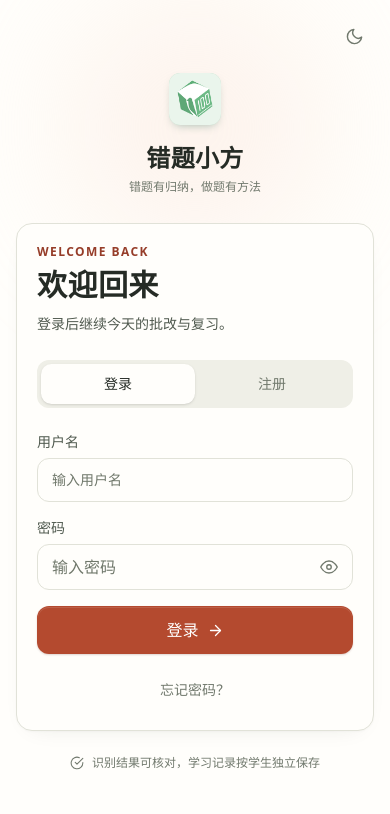
keeps invite requirements consistent on options failure and retries loading
What coordinates should you click on to do the following:
click the button "注册"
I would click on:
 (272, 384)
Its box is [195,364,349,404].
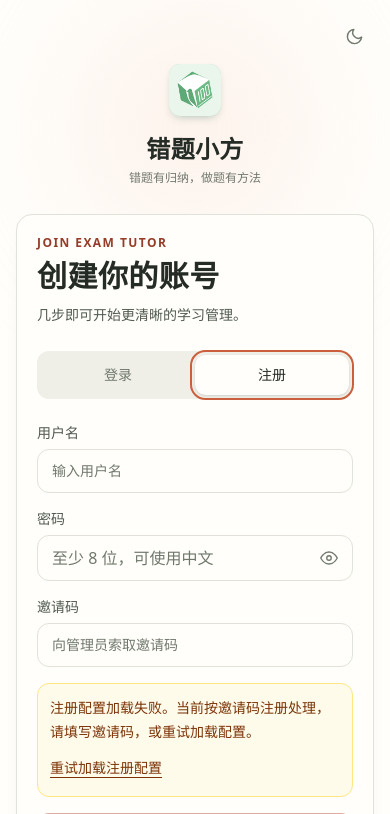
Expected: the message shows "当前按邀请码注册处理，请填写邀请码", [50,698,330,741]
What coordinates should you click on to do the following:
click the button "重试加载注册配置"
I would click on:
 (106, 768)
Its box is [50,752,162,784].
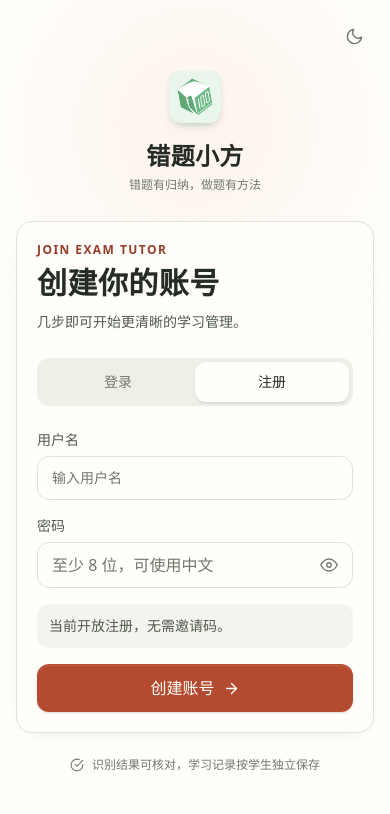
Expected: the text "当前开放注册，无需邀请码。" is shown, [37,604,353,648]
Expected: the button "创建账号" is enabled, [37,664,353,712]
